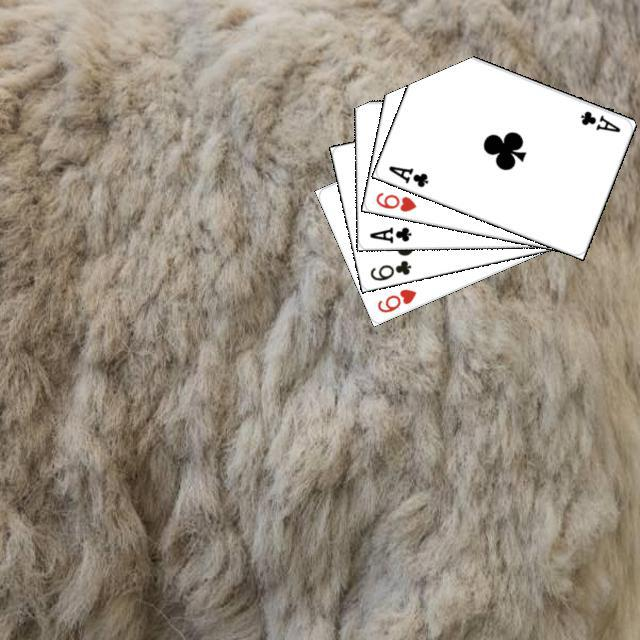6c: (365, 255, 413, 282)
6h: (372, 284, 418, 315), (371, 187, 418, 213)
Ac: (383, 160, 430, 189), (575, 106, 622, 134), (365, 222, 413, 245)
